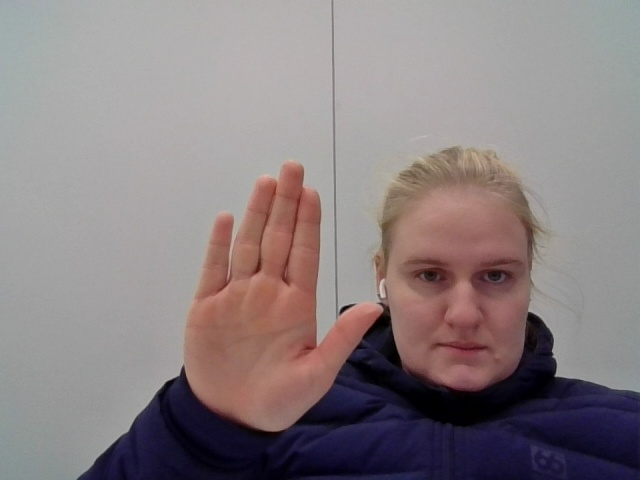nada: (179, 142, 386, 443)
